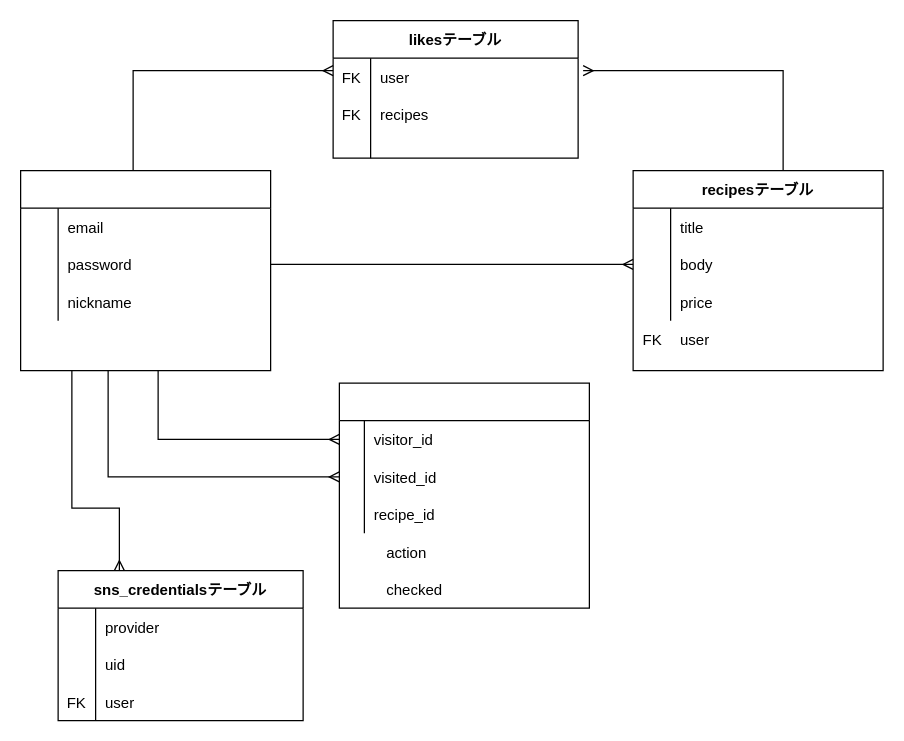
The diagram is 904 pixels wide and 741 high, and some of its shapes have lost their labels. The box of each missing label's shape, as (x1, y1, x2, y2) in pixels:
notificationsテーブル: (338, 382, 589, 608)
usersテーブル: (19, 169, 271, 371)
